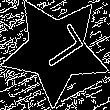L_SW: (27, 24, 85, 77)
